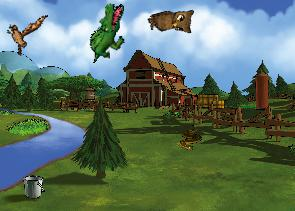crocodile: (88, 2, 126, 63)
eagle: (0, 5, 48, 60)
owl: (146, 4, 198, 43)
